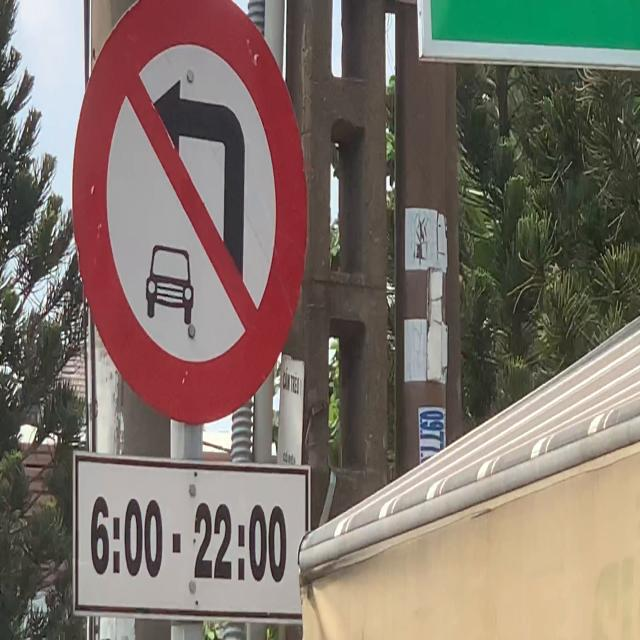Cam re trai: (72, 0, 310, 433)
